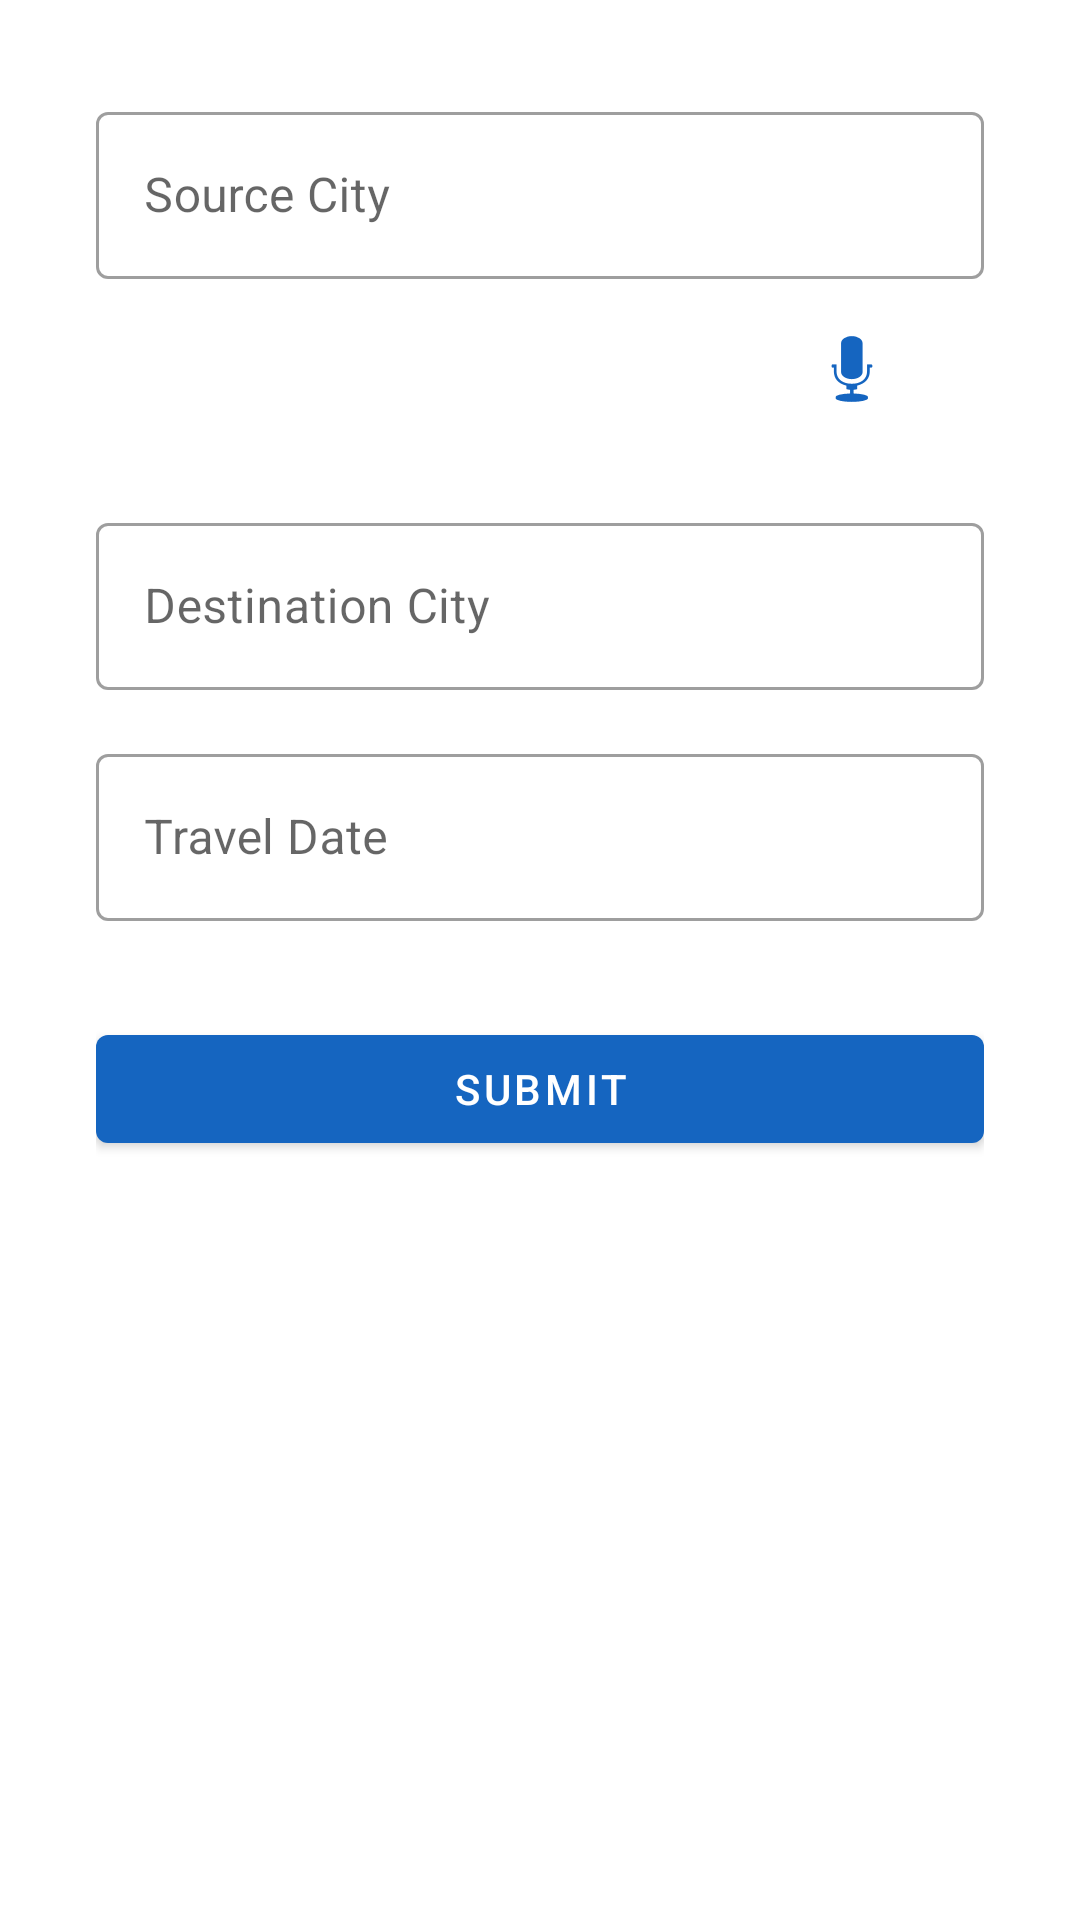

Where to tap for icons on this 1080 × 1920 app screen, as point (x, y):
speak now: point (852, 369)
